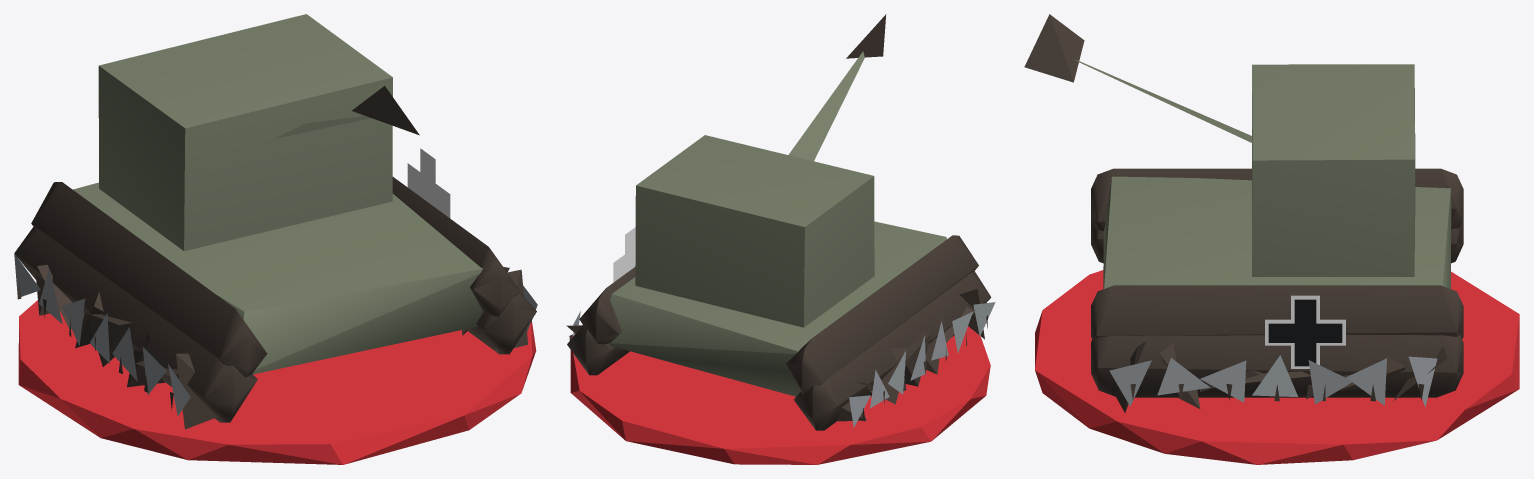
The model's file is germany_artillery_lod1.glb.
The picture shows the model from 3 angles, left to right: view 1: azimuth 30°, elevation 25°; view 2: azimuth 150°, elevation 25°; view 3: azimuth 270°, elevation 25°; orthographic projection. The views are drawn at different scales.
Visible parts, largest first — view 1: body_hull, base_pedestal; view 2: body_hull, base_pedestal; view 3: body_hull, base_pedestal.
Boxes of the visible parts, x1=… form: body_hull: x1=14, y1=14, x2=537, y2=429; base_pedestal: x1=18, y1=300, x2=536, y2=464; body_hull: x1=566, y1=14, x2=995, y2=430; base_pedestal: x1=570, y1=326, x2=990, y2=464; body_hull: x1=1024, y1=14, x2=1463, y2=412; base_pedestal: x1=1035, y1=270, x2=1519, y2=464.
Bounding box in the file's own units: 0.7709 × 0.5914 × 0.7767.
